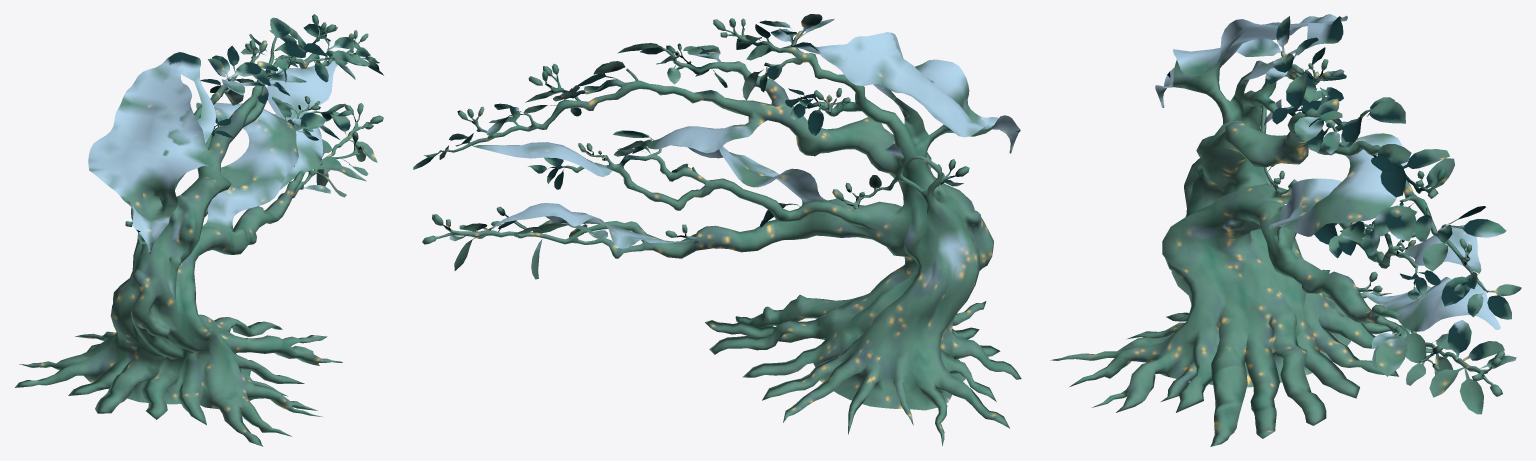
Rendered from leftgreentreefour.glb.
The picture shows the model from 3 angles, left to right: view 1: azimuth 30°, elevation 25°; view 2: azimuth 150°, elevation 25°; view 3: azimuth 270°, elevation 25°; orthographic projection. The views are drawn at different scales.
Visible parts, largest first — view 1: Tree__windswept; view 2: Tree__windswept; view 3: Tree__windswept.
Part boxes in pixels (x1=…): Tree__windswept: x1=15, y1=14, x2=383, y2=446; Tree__windswept: x1=413, y1=14, x2=1021, y2=445; Tree__windswept: x1=1050, y1=14, x2=1521, y2=446.
Size of the model in its own units: 5.99 by 4.1 by 4.67.
Materials: 1 (1 with a texture image).
